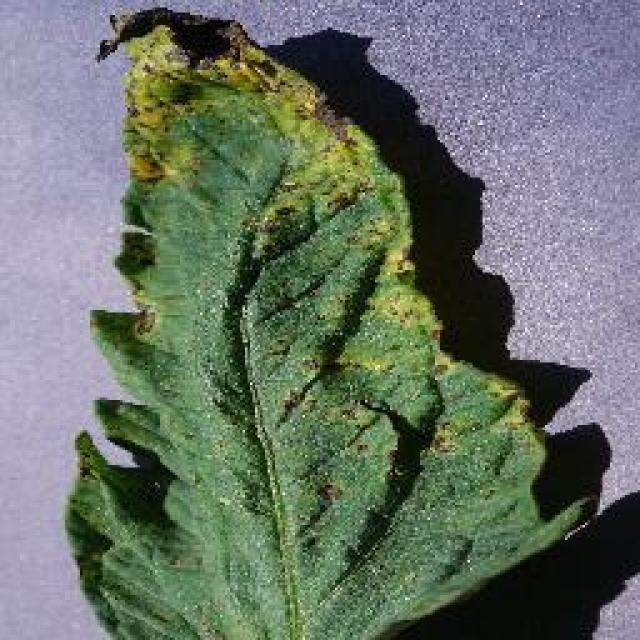Tomato Septoria spot leaf: (67, 6, 595, 640)
